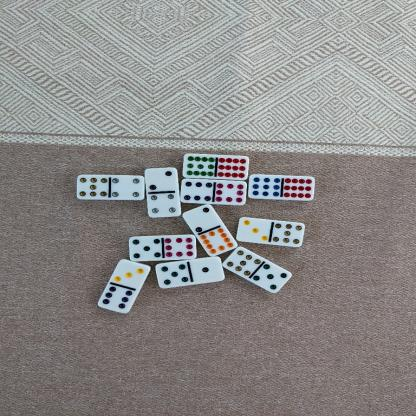pip-1: (190, 256, 224, 284)
pip-10: (199, 227, 237, 256)
pip-11: (181, 154, 215, 178)
pip-12: (215, 154, 250, 180), (282, 175, 314, 200)
pip-2: (181, 204, 214, 233), (143, 166, 178, 192)
pip-3: (112, 258, 150, 288), (236, 215, 270, 244)
pip-4: (109, 174, 144, 200), (146, 192, 180, 216)
pip-5: (251, 262, 291, 293), (155, 260, 189, 289), (127, 236, 163, 260)
pip-6: (96, 285, 134, 312), (178, 178, 214, 204)
pip-7: (221, 246, 261, 276), (76, 173, 110, 200), (271, 221, 304, 246)
pip-8: (162, 234, 197, 258), (214, 180, 247, 205)
pip-9: (248, 174, 282, 200)
